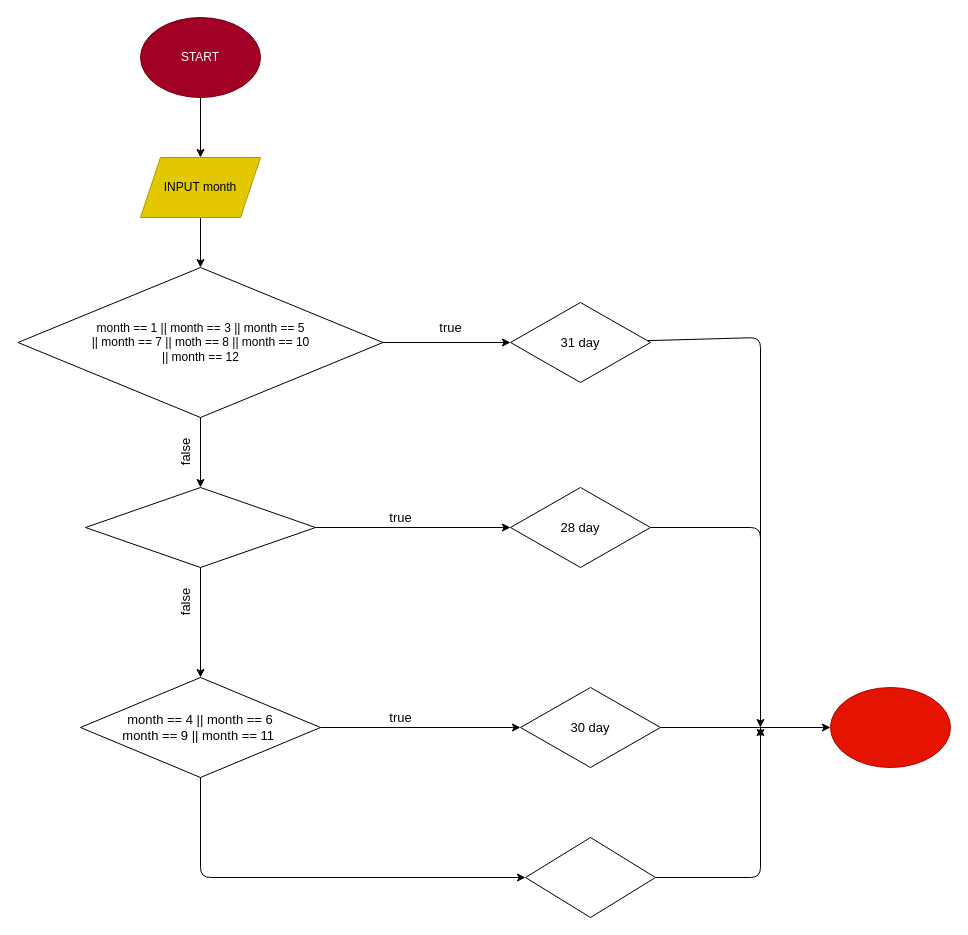
Image size: 968x935. Some labels were removed from this diagram. Here are the shapes that lost their labels. From the top down, the centre of each, then its label:
At (200,527): "Month == 2".
At (890,727): "END".
At (590,877): "nhap sai".
